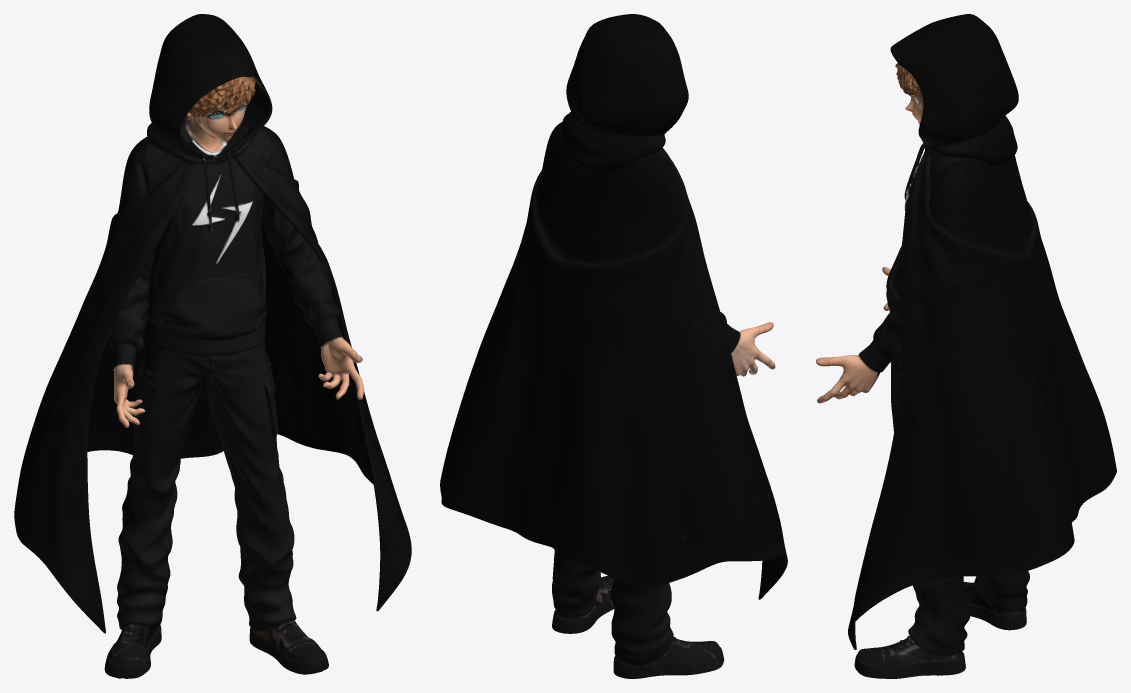
File: multi.glb
The picture shows the model from 3 angles, left to right: view 1: azimuth 30°, elevation 25°; view 2: azimuth 150°, elevation 25°; view 3: azimuth 270°, elevation 25°; orthographic projection.
Visible parts, largest first — view 1: Mesh_0; view 2: Mesh_0; view 3: Mesh_0.
Boxes of the visible parts, x1=… form: Mesh_0: x1=14, y1=14, x2=411, y2=678; Mesh_0: x1=440, y1=14, x2=787, y2=678; Mesh_0: x1=816, y1=14, x2=1116, y2=678.
Bounding box in the file's own units: 1.04 × 1.9 × 0.8304.
Materials: 1 (1 with a texture image).
